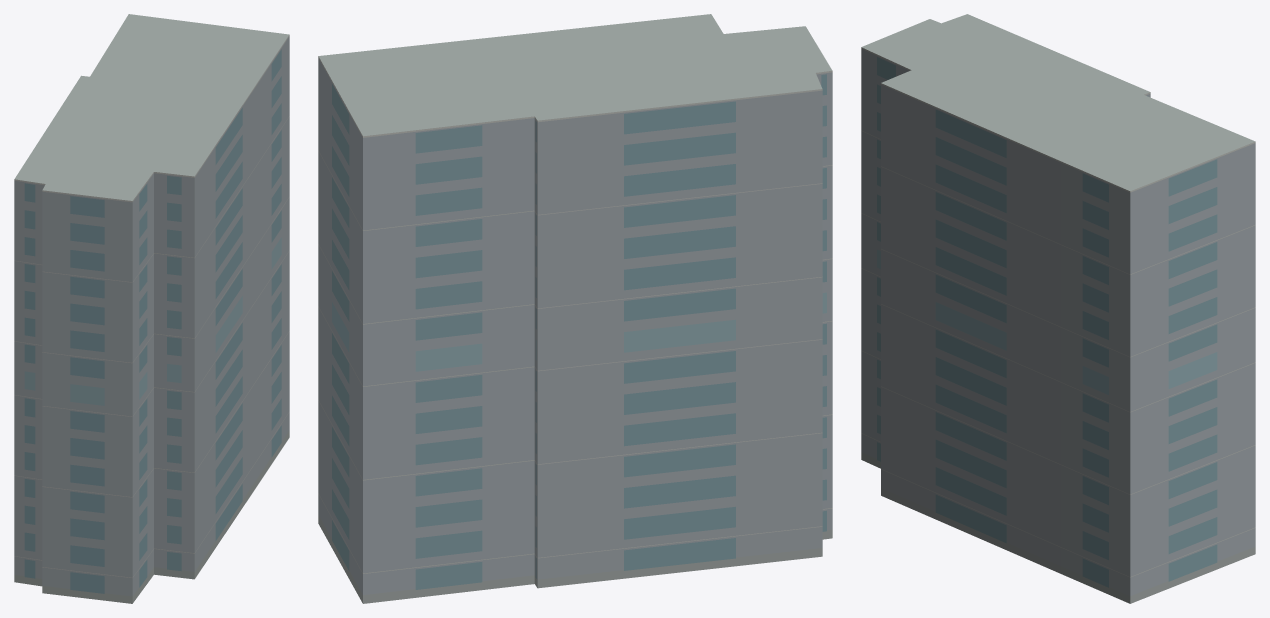
File: survey-upis-32978266.glb
3 renders of one model, left to right at view 1: azimuth 30°, elevation 25°; view 2: azimuth 150°, elevation 25°; view 3: azimuth 270°, elevation 25°, orthographic. The views are drawn at different scales.
Visible parts, largest first — view 1: survey-upis-32978266.tmp; view 2: survey-upis-32978266.tmp; view 3: survey-upis-32978266.tmp.
Part boxes in pixels (x1,y1,x2,y2): survey-upis-32978266.tmp: [14, 14, 289, 603]; survey-upis-32978266.tmp: [318, 14, 832, 603]; survey-upis-32978266.tmp: [861, 14, 1255, 603].
Size of the model in its own units: 65.08 by 70.6 by 61.19.
